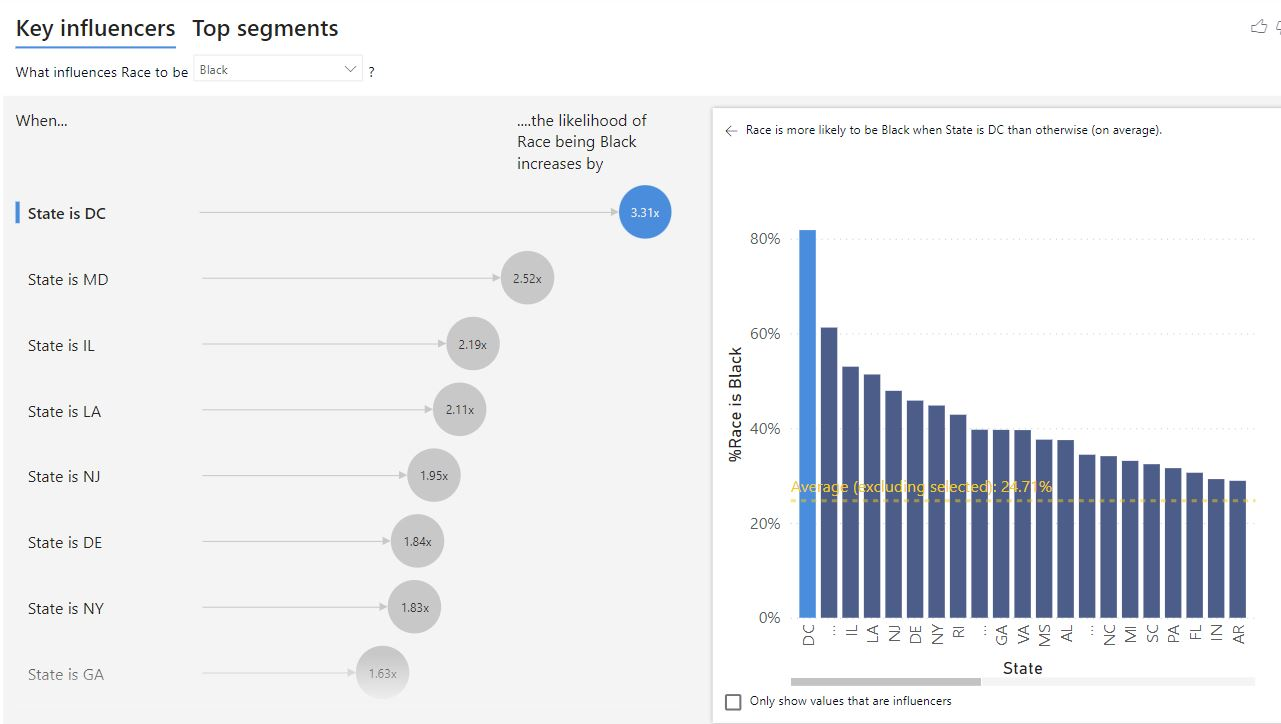

The page's visual inventory and layout, read from the dashboard file:
{"tool":"powerbi","page":{"name":"Page 4","canvas":[1280,720],"ordinal":2},"visuals":[{"type":"keyDriversVisual","fields":{"Target":["Data Corrected.Race"],"ExplainBy":["Data Corrected.State"]},"box":[0,0,1280,719.8],"z":0}]}

Visuals, with their boxes in screenshot pixels (x1, y1, x2, y2), scaled from the page's 1280x720 canvas onto the 1281x724 screenshot:
keyDriversVisual - Data Corrected.Race x Data Corrected.State: box(0, 0, 1280, 723)
